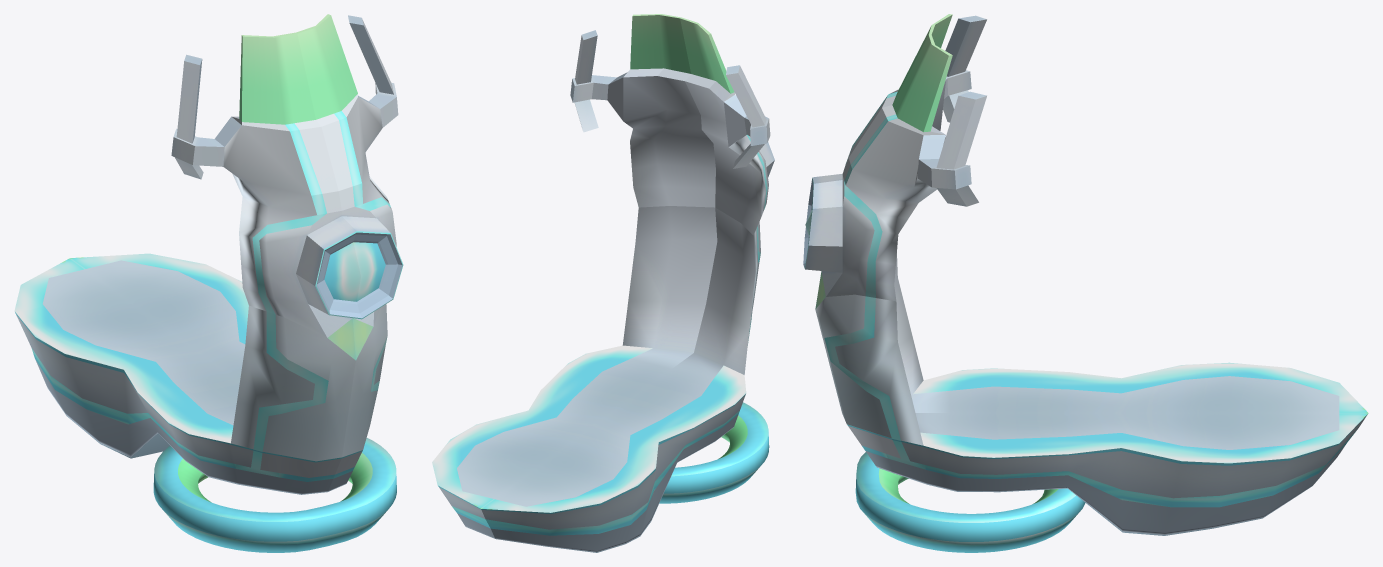
Rendered from bike_v3.fbx.
3 renders of one model, left to right at view 1: azimuth 30°, elevation 25°; view 2: azimuth 150°, elevation 25°; view 3: azimuth 270°, elevation 25°, orthographic. The views are drawn at different scales.
Visible parts, largest first — view 1: bike_main1, polySurface1; view 2: bike_main1, polySurface1; view 3: bike_main1, polySurface1.
Part boxes in pixels (x1,y1,x2,y2): bike_main1: (16,14,402,494); polySurface1: (14,111,403,552); bike_main1: (439,14,774,552); polySurface1: (432,135,769,535); bike_main1: (803,14,1366,535); polySurface1: (804,91,1368,552).
Size of the model in its own units: 103 by 216 by 233.
